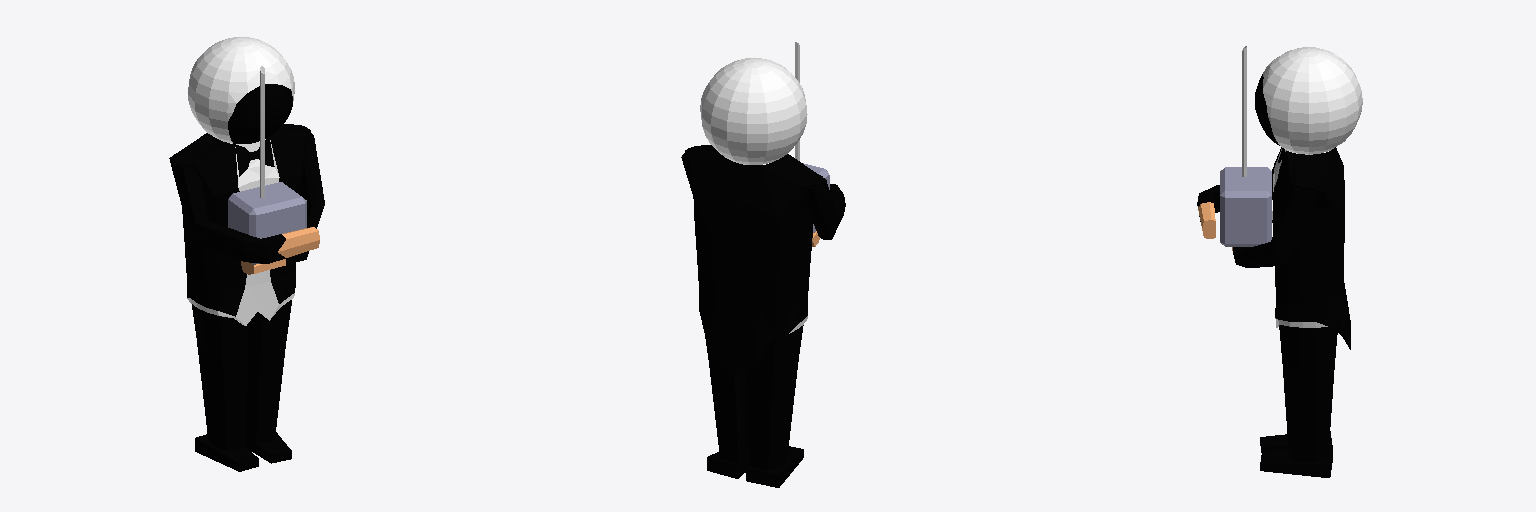
Rendered from player_sora.obj.
The picture shows the model from 3 angles: view 1: azimuth 30°, elevation 25°; view 2: azimuth 150°, elevation 25°; view 3: azimuth 270°, elevation 25°; orthographic projection.
Visible parts, largest first — view 1: pCube1, pCube2, pSphere1, pasted__pCube4 group, pCube5, pCube4, pCube3, pCylinder1; view 2: pCube1, pSphere1, pCube2, pasted__pCube4 group, pCube3; view 3: pCube1, pSphere1, pCube2, pCube5, pCube4, pCube3, pasted__pCube4 group, pCylinder1.
Boxes of the visible parts, x1,y1,x2,y2 form: pCube1: [172, 124, 310, 325]; pCube2: [192, 300, 291, 451]; pSphere1: [188, 37, 294, 143]; pasted__pCube4 group: [169, 157, 319, 263]; pCube5: [228, 182, 306, 264]; pCube4: [241, 133, 324, 274]; pCube3: [195, 432, 291, 471]; pCylinder1: [260, 66, 264, 197]; pCube1: [684, 145, 822, 374]; pSphere1: [700, 58, 807, 164]; pCube2: [705, 325, 803, 470]; pasted__pCube4 group: [806, 178, 845, 239]; pCube3: [707, 446, 803, 487]; pCube1: [1272, 147, 1350, 349]; pSphere1: [1255, 47, 1362, 154]; pCube2: [1279, 322, 1338, 461]; pCube5: [1220, 167, 1271, 246]; pCube4: [1232, 186, 1323, 267]; pCube3: [1260, 431, 1332, 477]; pasted__pCube4 group: [1197, 167, 1273, 238]; pCylinder1: [1242, 46, 1246, 176].
Size of the model in its own units: 1.28 by 3.69 by 1.35.